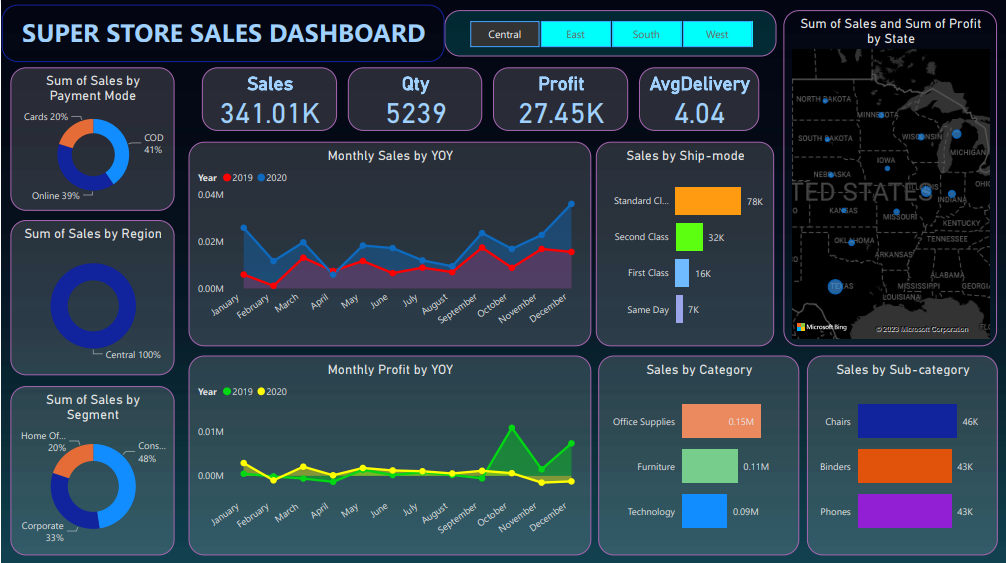

Layout of this report page (visuals, bound fields, positions):
{"tool":"powerbi","page":{"name":"Dashboard","canvas":[1280,720],"ordinal":0},"visuals":[{"type":"clusteredBarChart","title":"Sales by Category","fields":{"Category":["SuperStore_Sales_Dataset.Category"],"Y":["Sum(SuperStore_Sales_Dataset.Sales)"]},"box":[759.7,453.5,256.5,255.1],"z":0},{"type":"clusteredBarChart","title":"Sales by Sub-category","fields":{"Y":["Sum(SuperStore_Sales_Dataset.Sales)"],"Category":["SuperStore_Sales_Dataset.Sub-Category"]},"box":[1026.1,453.5,242.4,255.1],"z":1000},{"type":"clusteredBarChart","title":"Sales by Ship-mode","fields":{"Y":["Sum(SuperStore_Sales_Dataset.Sales)"],"Category":["SuperStore_Sales_Dataset.Ship Mode"]},"box":[756.9,181.4,226.8,260.8],"z":2000},{"type":"areaChart","title":"Monthly Sales by YOY","fields":{"Y":["Sum(SuperStore_Sales_Dataset.Sales)"],"Category":["SuperStore_Sales_Dataset.Order Date.Variation.Date Hierarchy.Month","SuperStore_Sales_Dataset.Order Date.Variation.Date Hierarchy.Day"],"Series":["SuperStore_Sales_Dataset.Order Date.Variation.Date Hierarchy.Year"]},"box":[238.1,181.4,513.1,260.8],"z":3000},{"type":"areaChart","title":"Monthly Profit by YOY","fields":{"Category":["SuperStore_Sales_Dataset.Order Date.Variation.Date Hierarchy.Month","SuperStore_Sales_Dataset.Order Date.Variation.Date Hierarchy.Day"],"Series":["SuperStore_Sales_Dataset.Order Date.Variation.Date Hierarchy.Year"],"Y":["Sum(SuperStore_Sales_Dataset.Profit)"]},"box":[238.1,453.5,513.1,255.1],"z":4000},{"type":"donutChart","fields":{"Category":["SuperStore_Sales_Dataset.Segment"],"Y":["Sum(SuperStore_Sales_Dataset.Sales)"]},"box":[11.3,493.2,208.3,215.4],"z":5000},{"type":"donutChart","fields":{"Category":["SuperStore_Sales_Dataset.Payment Mode"],"Y":["Sum(SuperStore_Sales_Dataset.Sales)"]},"box":[11.3,86.5,208.3,182.8],"z":6000},{"type":"slicer","fields":{"Values":["SuperStore_Sales_Dataset.Region"]},"box":[563.9,13,423.5,59],"z":7000},{"type":"textbox","box":[0,5.7,564.1,73.7],"z":8000},{"type":"card","title":"Sales","fields":{"Values":["Sum(SuperStore_Sales_Dataset.Sales)"]},"box":[255.1,86.5,171.5,80.8],"z":9000},{"type":"card","title":"Qty","fields":{"Values":["Sum(SuperStore_Sales_Dataset.Quantity)"]},"box":[440.8,86.5,171.5,80.8],"z":10000},{"type":"card","title":"Profit","fields":{"Values":["Sum(SuperStore_Sales_Dataset.Profit)"]},"box":[626.5,86.5,171.5,80.8],"z":11000},{"type":"card","title":"AvgDelivery","fields":{"Values":["Avg(SuperStore_Sales_Dataset.AvgDelivery)"]},"box":[812.1,86.5,153.1,80.8],"z":12000},{"type":"donutChart","fields":{"Y":["Sum(SuperStore_Sales_Dataset.Sales)"],"Category":["SuperStore_Sales_Dataset.Region"]},"box":[11.3,280.6,208.3,198.4],"z":13000},{"type":"map","fields":{"Category":["SuperStore_Sales_Dataset.State"],"Size":["Sum(SuperStore_Sales_Dataset.Sales)"]},"box":[995.7,13,272.5,429.4],"z":14000}]}

Visuals, with their boxes in screenshot pixels (x1, y1, x2, y2), scaled from the page's 1280x720 canvas onto the 1006x563 screenshot:
"Sales by Category" clusteredBarChart: bbox=(597, 355, 799, 554)
"Sales by Sub-category" clusteredBarChart: bbox=(806, 355, 997, 554)
"Sales by Ship-mode" clusteredBarChart: bbox=(595, 142, 773, 346)
"Monthly Sales by YOY" areaChart: bbox=(187, 142, 590, 346)
"Monthly Profit by YOY" areaChart: bbox=(187, 355, 590, 554)
donutChart - SuperStore_Sales_Dataset.Segment x Sum(SuperStore_Sales_Dataset.Sales): bbox=(9, 386, 173, 554)
donutChart - SuperStore_Sales_Dataset.Payment Mode x Sum(SuperStore_Sales_Dataset.Sales): bbox=(9, 68, 173, 211)
slicer - SuperStore_Sales_Dataset.Region: bbox=(443, 10, 776, 56)
textbox: bbox=(0, 4, 443, 62)
"Sales" card: bbox=(200, 68, 335, 131)
"Qty" card: bbox=(346, 68, 481, 131)
"Profit" card: bbox=(492, 68, 627, 131)
"AvgDelivery" card: bbox=(638, 68, 759, 131)
donutChart - Sum(SuperStore_Sales_Dataset.Sales) x SuperStore_Sales_Dataset.Region: bbox=(9, 219, 173, 375)
map - SuperStore_Sales_Dataset.State x Sum(SuperStore_Sales_Dataset.Sales): bbox=(783, 10, 997, 346)
